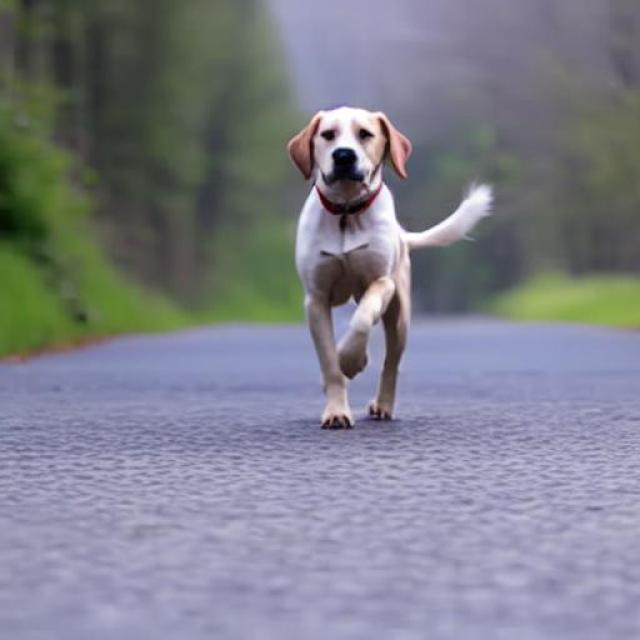Dog: (287, 106, 494, 430)
